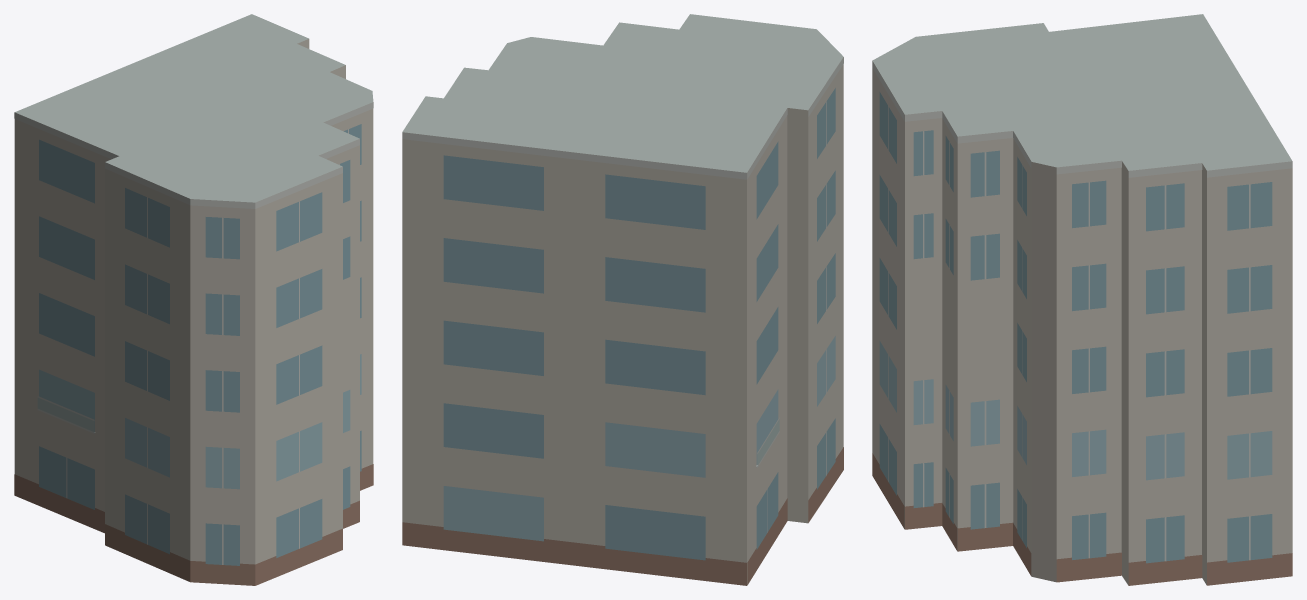
File: survey-upis-32520757.glb
3 views of the same model, side by side, from view 1: azimuth 30°, elevation 25°; view 2: azimuth 150°, elevation 25°; view 3: azimuth 270°, elevation 25° (orthographic). The views are drawn at different scales.
Parts seen in each view (by area): view 1: survey-upis-32520757.tmp; view 2: survey-upis-32520757.tmp; view 3: survey-upis-32520757.tmp.
Boxes of the visible parts, x1,y1,x2,y2 form: survey-upis-32520757.tmp: [14, 14, 373, 585]; survey-upis-32520757.tmp: [402, 14, 843, 585]; survey-upis-32520757.tmp: [872, 14, 1292, 585].
Bounding box in the file's own units: 11.77 × 14.5 × 13.32.
